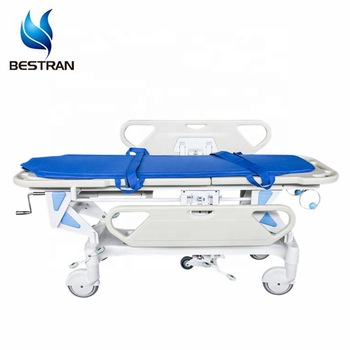trolley_bed: (10, 116, 333, 300)
